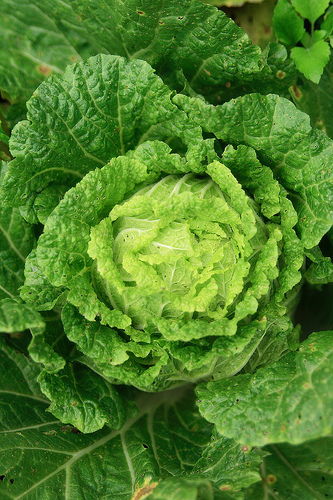cabbage: (3, 0, 331, 498)
